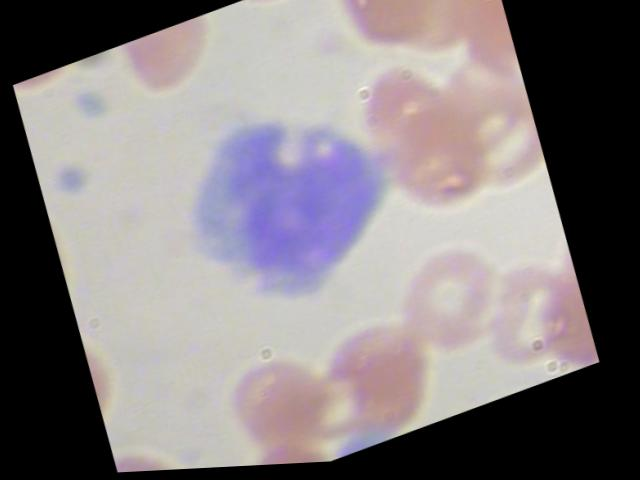Platelets: (45, 149, 99, 206), (63, 80, 117, 137), (335, 438, 378, 463)
Red Blood Cells: (338, 31, 493, 191), (367, 101, 521, 261), (305, 300, 453, 463), (198, 311, 347, 470), (389, 231, 530, 374), (453, 254, 594, 396), (432, 78, 560, 228), (110, 11, 247, 142), (310, 0, 454, 70), (104, 18, 209, 86), (208, 0, 332, 45), (231, 422, 344, 469), (13, 55, 104, 107)
White Blood Cells: (144, 63, 428, 345)
